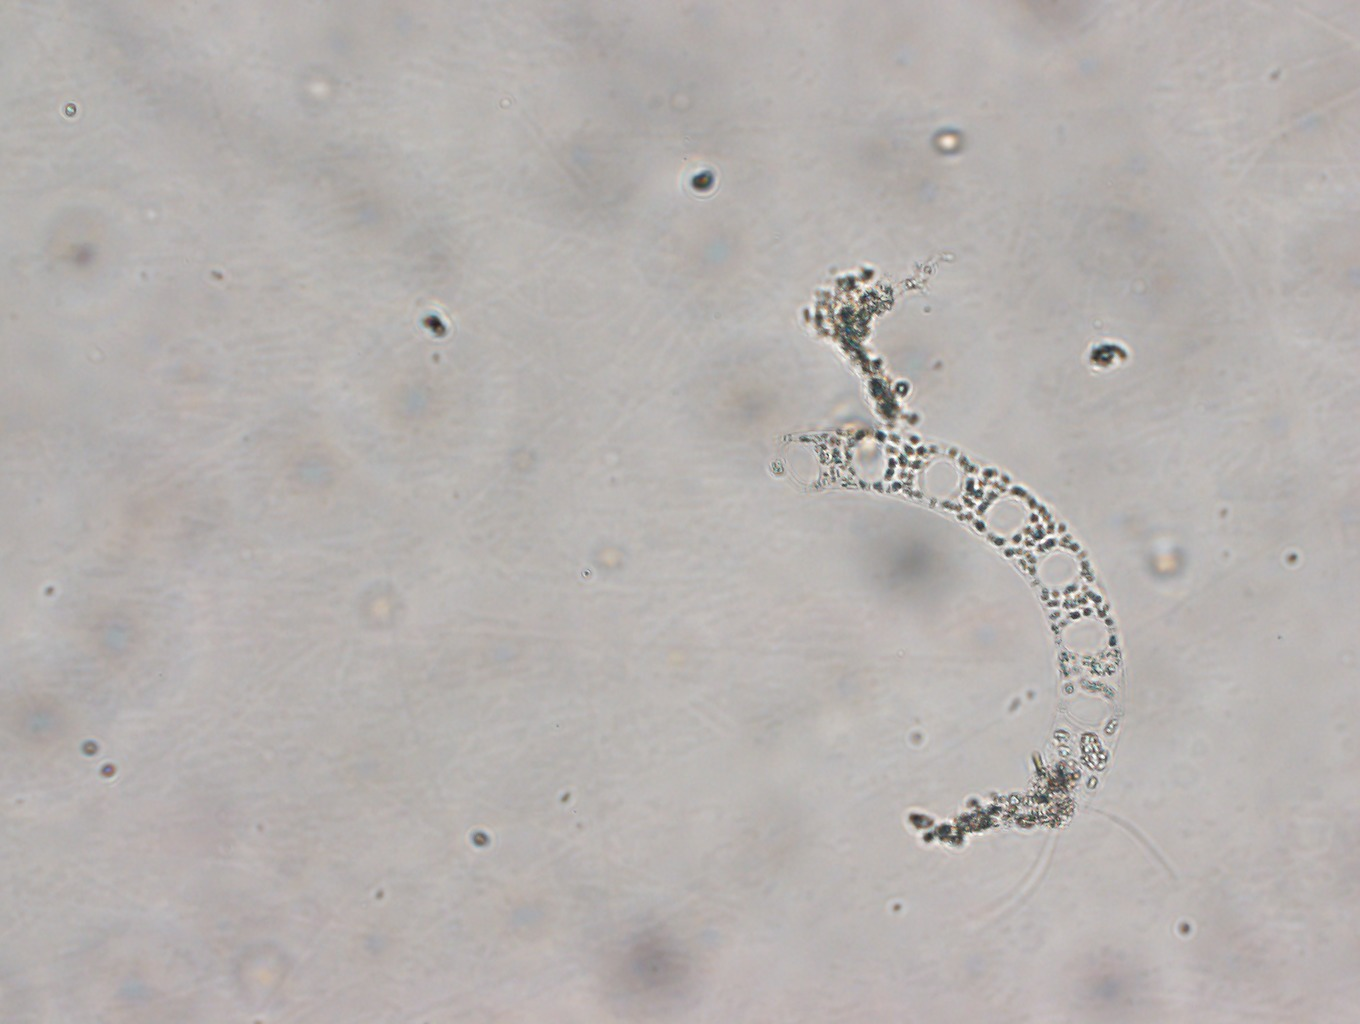eucampia: (778, 416, 1132, 791)
